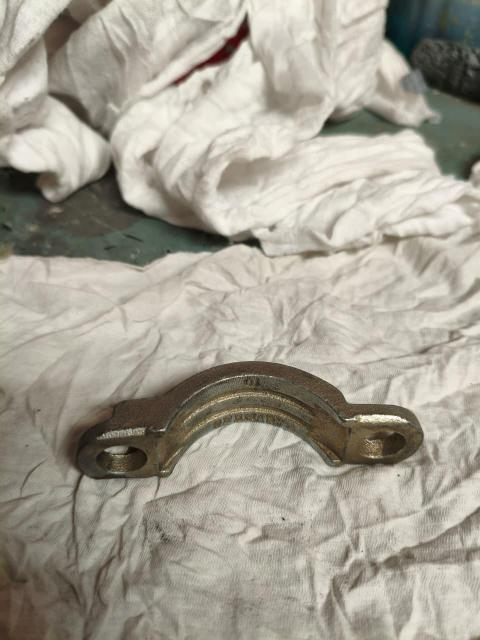Metal: (80, 363, 420, 488)
